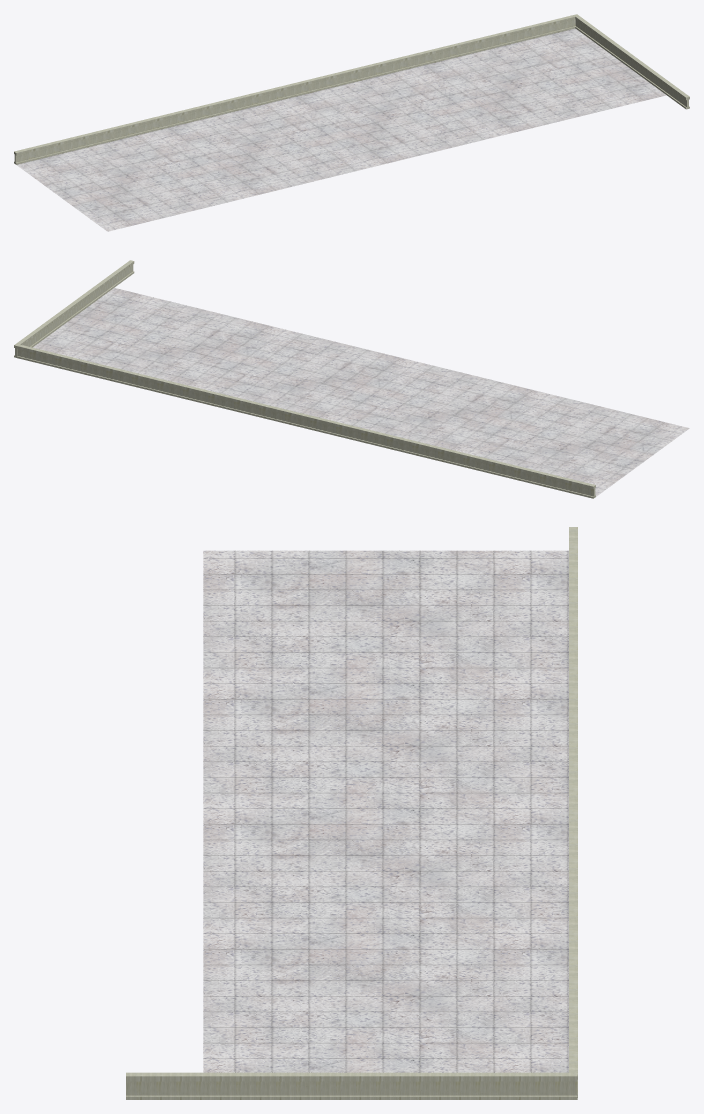
File: balcony.fbx
3 renders of one model, top to bottom at view 1: azimuth 30°, elevation 25°; view 2: azimuth 150°, elevation 25°; view 3: azimuth 270°, elevation 25°, orthographic. The views are drawn at different scales.
Visible parts, largest first — view 1: Plane, Cube, Cube.001; view 2: Plane, Cube, Cube.001; view 3: Plane, Cube.001, Cube.
Part boxes in pixels (bbox=[...]): Plane: bbox=[16, 28, 666, 231]; Cube: bbox=[14, 15, 575, 164]; Cube.001: bbox=[573, 14, 689, 109]; Plane: bbox=[33, 288, 689, 496]; Cube: bbox=[16, 344, 595, 498]; Cube.001: bbox=[14, 260, 134, 357]; Plane: bbox=[203, 550, 568, 1072]; Cube.001: bbox=[126, 1072, 577, 1099]; Cube: bbox=[569, 527, 577, 1097].
Size of the model in its own units: 3512 by 70.1 by 1221.
Materials: 2 (2 with a texture image).
